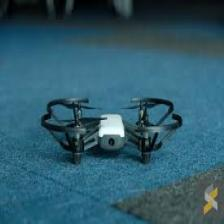drone: (41, 103, 182, 160)
